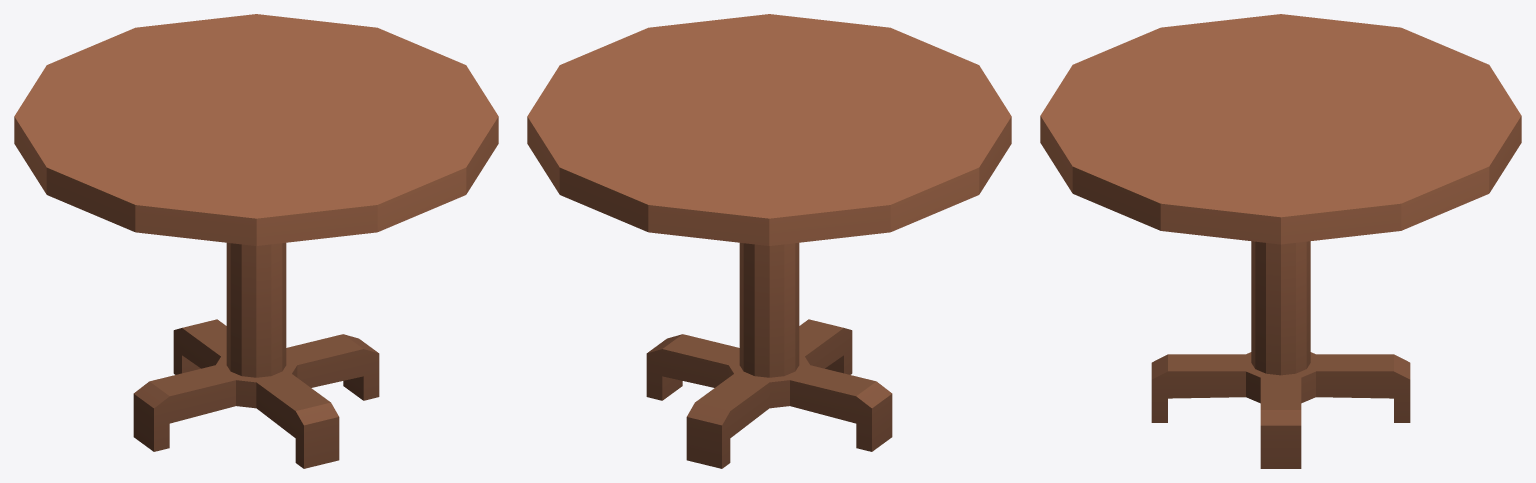
The model's file is table-2.glb.
3 views of the same model, side by side, from view 1: azimuth 30°, elevation 25°; view 2: azimuth 150°, elevation 25°; view 3: azimuth 270°, elevation 25° (orthographic).
Parts seen in each view (by area): view 1: table 2; view 2: table 2; view 3: table 2.
Boxes of the visible parts, <box> form: table 2: <box>14,14,498,468</box>; table 2: <box>527,14,1011,468</box>; table 2: <box>1040,14,1521,468</box>.
Bounding box in the file's own units: 1.32 × 0.9019 × 1.32.
Materials: 1 (1 with a texture image).
